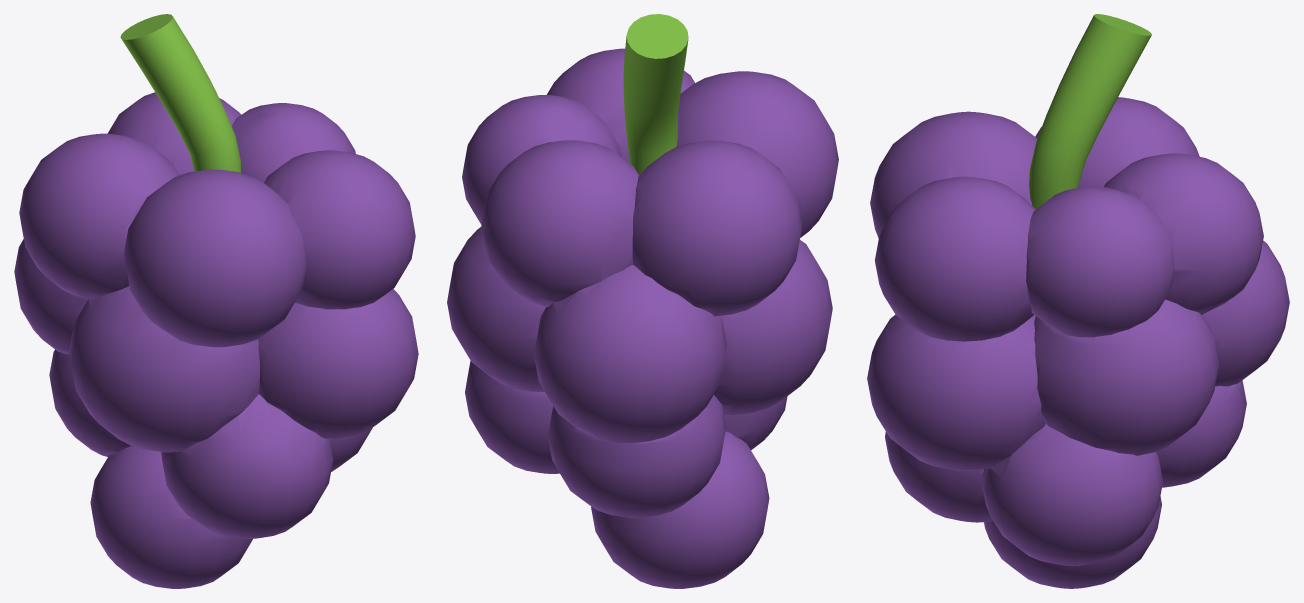
Rendered from putao.fbx.
3 views of the same model, side by side, from view 1: azimuth 30°, elevation 25°; view 2: azimuth 150°, elevation 25°; view 3: azimuth 270°, elevation 25° (orthographic). The views are drawn at different scales.
Parts seen in each view (by area): view 1: pSphere66, pCylinder53; view 2: pSphere66, pCylinder53; view 3: pSphere66, pCylinder53.
Part boxes in pixels (x1,y1,x2,y2): pSphere66: [14, 92, 418, 588]; pCylinder53: [120, 14, 241, 172]; pSphere66: [447, 48, 838, 588]; pCylinder53: [623, 14, 688, 175]; pSphere66: [867, 97, 1289, 588]; pCylinder53: [1029, 14, 1151, 209].
Bounding box in the file's own units: 1.27 × 1.43 × 2.11.
